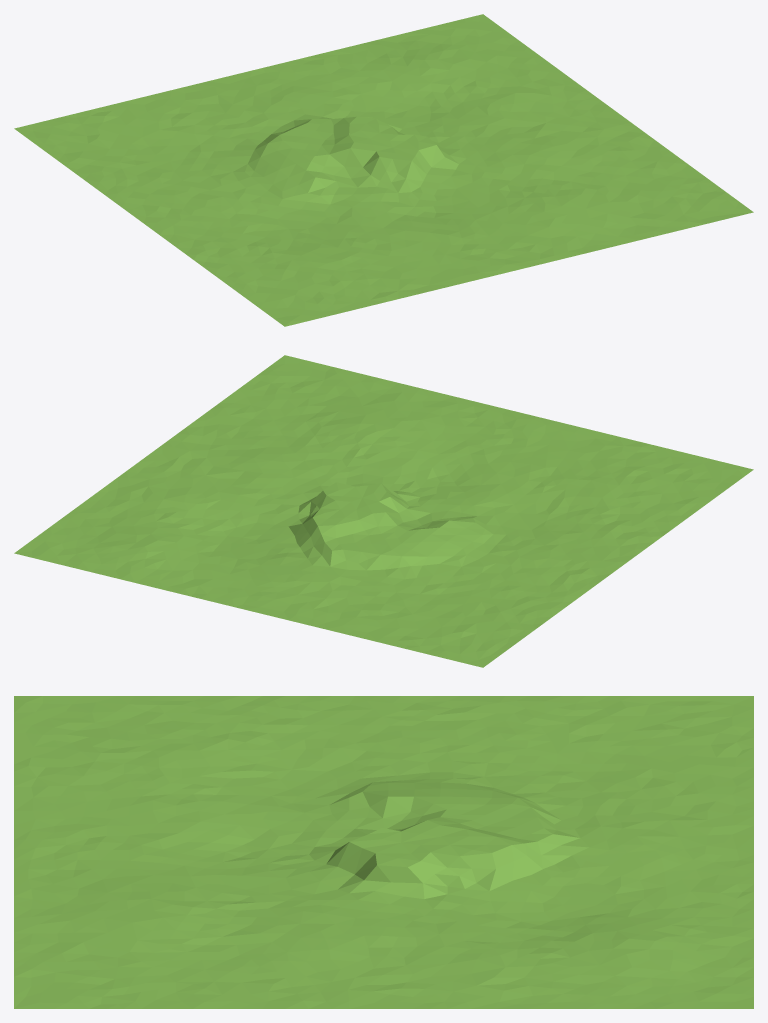
The model's file is MT_Terrain_L_d_13_LOD.fbx.
3 views of the same model, one above another, from view 1: azimuth 30°, elevation 25°; view 2: azimuth 150°, elevation 25°; view 3: azimuth 270°, elevation 25° (orthographic). The views are drawn at different scales.
Parts seen in each view (by area): view 1: MT_Terrain_L_d_13_LOD0; view 2: MT_Terrain_L_d_13_LOD0; view 3: MT_Terrain_L_d_13_LOD0.
Boxes of the visible parts, x1=… form: MT_Terrain_L_d_13_LOD0: x1=14, y1=14, x2=753, y2=326; MT_Terrain_L_d_13_LOD0: x1=14, y1=355, x2=753, y2=667; MT_Terrain_L_d_13_LOD0: x1=14, y1=696, x2=753, y2=1008.
Size of what is drawn, in the model's own units: 10000 by 397 by 10000.
